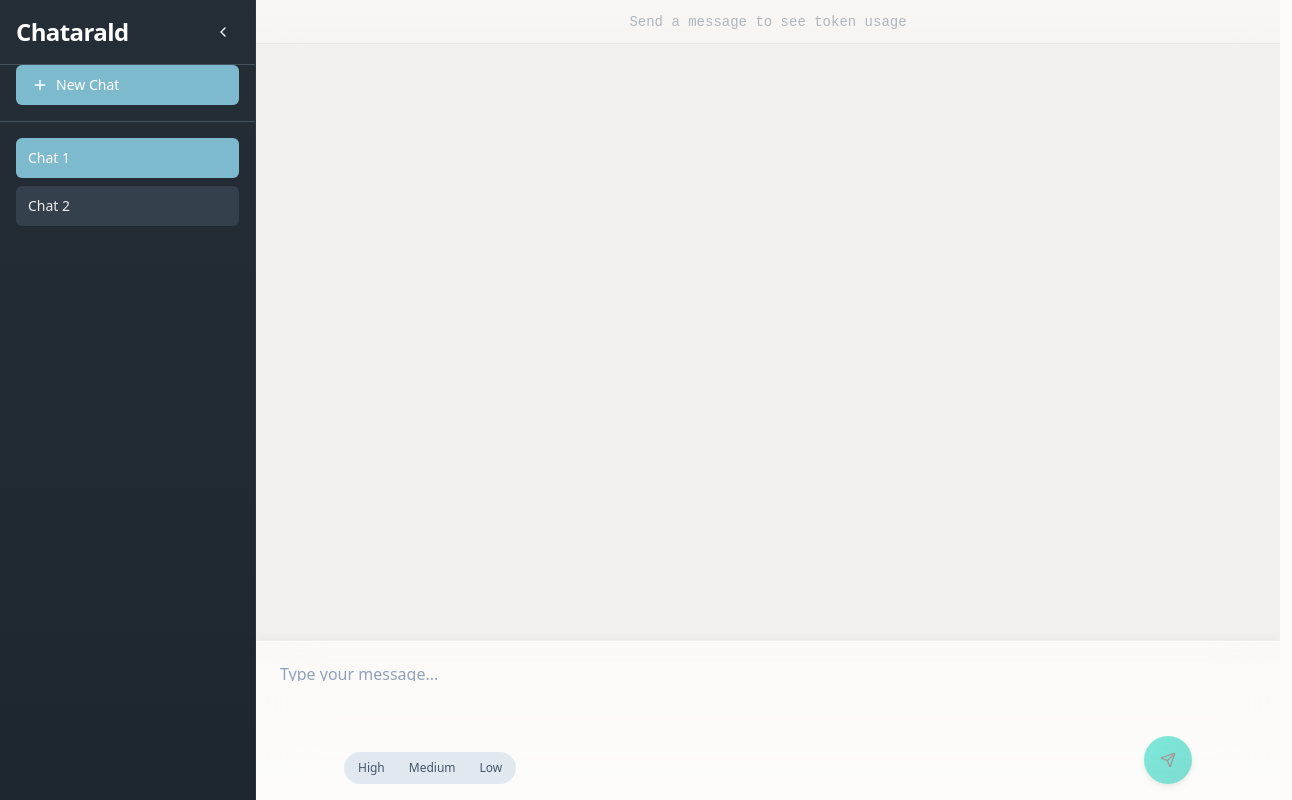
Test case: App Component › does not render delete buttons when sidebar is collapsed
Check: the text "Chat 1" is shown, box [28,148,70,167]
Collapse the sidebar
What coordinates should you click on to do the following:
click the button named "collapse sidebar"
I would click on:
 (223, 32)
Its box is [207,16,239,48].
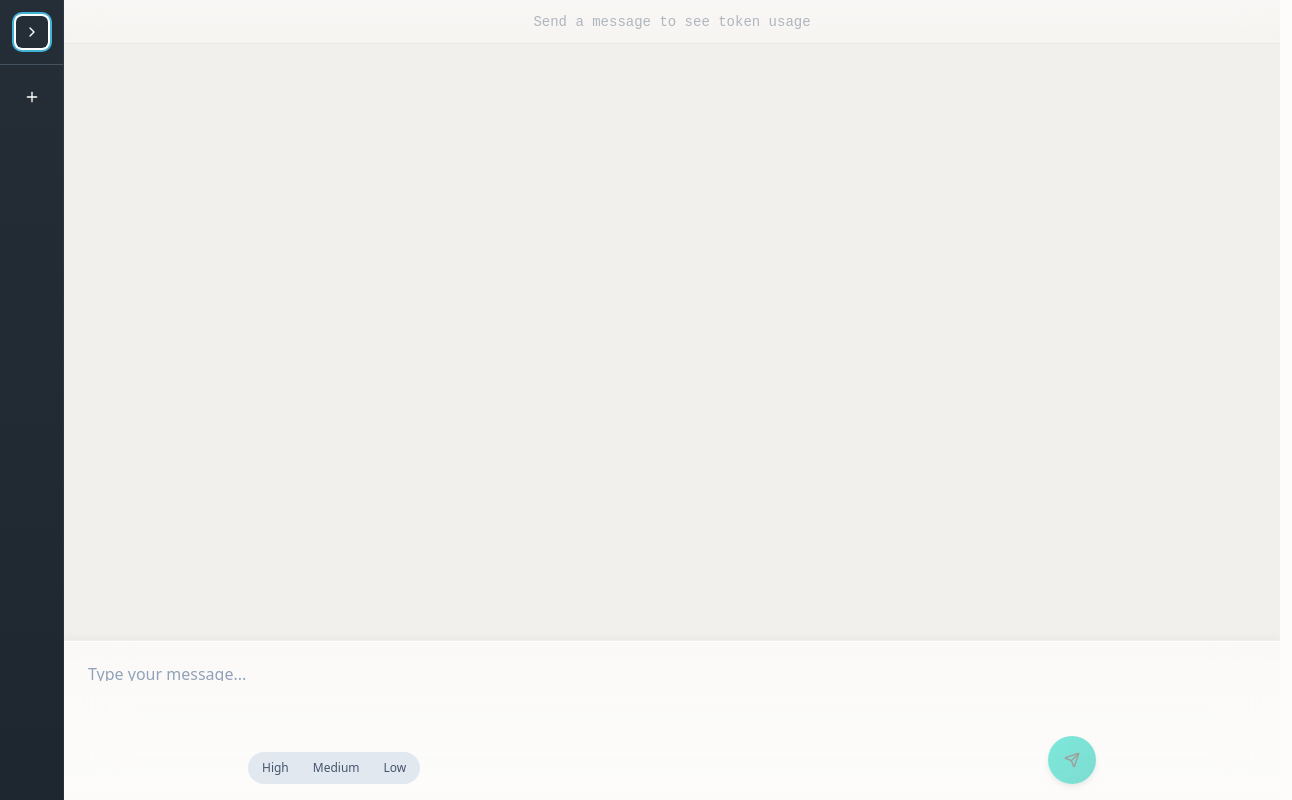
Check: the button "Chat 1" is gone
